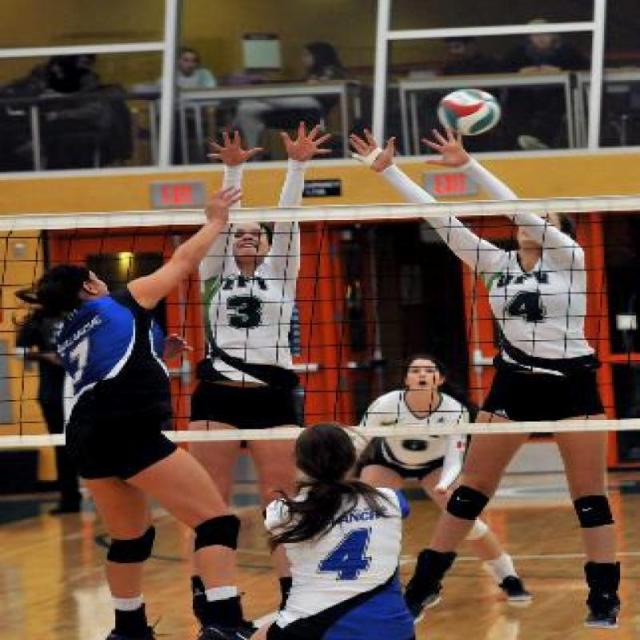volleyball: (435, 86, 503, 134)
